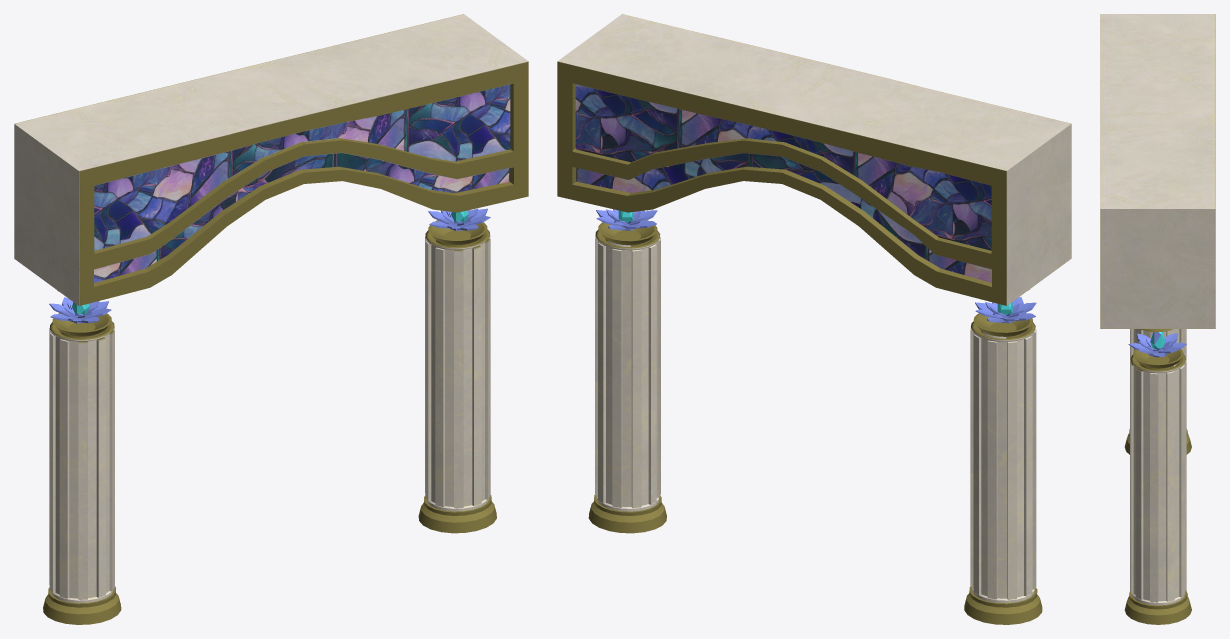
Rendered from archwayCompressed.glb.
The picture shows the model from 3 angles, left to right: view 1: azimuth 30°, elevation 25°; view 2: azimuth 150°, elevation 25°; view 3: azimuth 270°, elevation 25°; orthographic projection. The views are drawn at different scales.
Parts seen in each view (by area): view 1: archwaywhole.005; view 2: archwaywhole.005; view 3: archwaywhole.005.
Part boxes in pixels (box(x1,y1,x2,y2)): archwaywhole.005: box(14, 14, 528, 624); archwaywhole.005: box(557, 14, 1071, 624); archwaywhole.005: box(1100, 14, 1215, 624).
Size of the model in its own units: 2 by 2 by 0.5.
6 materials, 4 textured.
